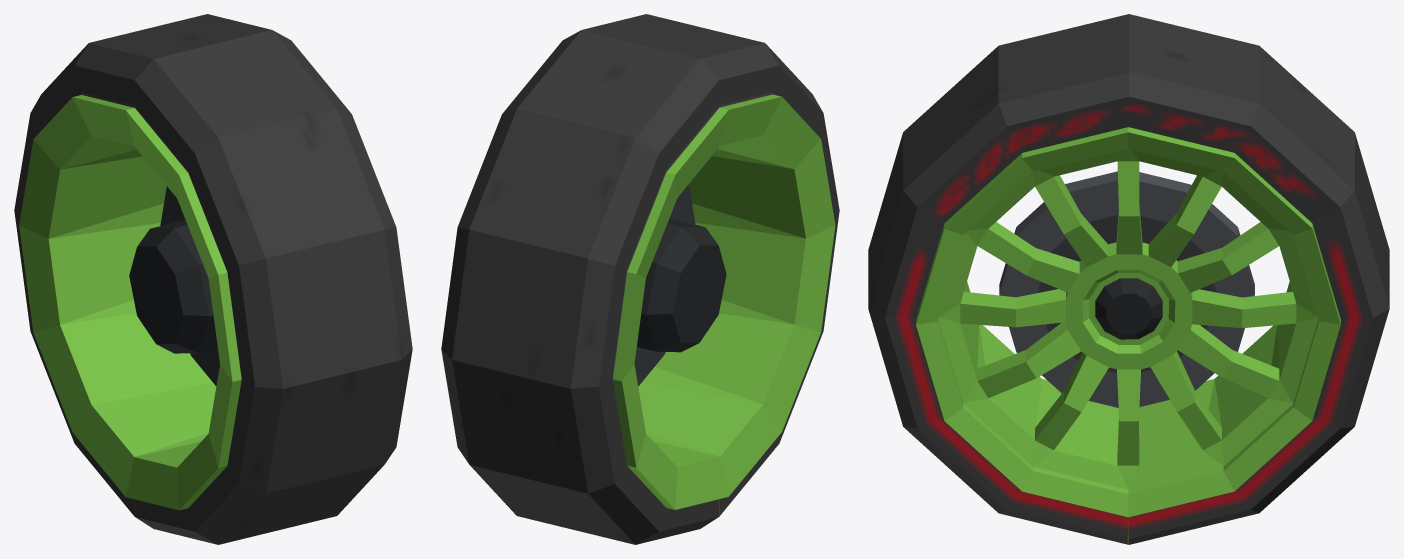
The model's file is SM_Veh_Wheel_Narrow_01.fbx.
3 renders of one model, left to right at view 1: azimuth 30°, elevation 25°; view 2: azimuth 150°, elevation 25°; view 3: azimuth 270°, elevation 25°, orthographic.
Parts seen in each view (by area): view 1: SM_Veh_Wheel_Narrow_01; view 2: SM_Veh_Wheel_Narrow_01; view 3: SM_Veh_Wheel_Narrow_01.
Boxes of the visible parts, box(x1,y1,x2,y2) form: SM_Veh_Wheel_Narrow_01: box(14, 14, 412, 544); SM_Veh_Wheel_Narrow_01: box(441, 14, 839, 544); SM_Veh_Wheel_Narrow_01: box(868, 14, 1389, 544).
Size of the model in its own units: 28.52 by 73.55 by 73.55.
